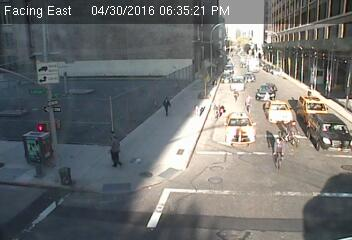neg: (43, 48, 74, 88), (22, 137, 51, 176), (6, 65, 33, 102), (284, 54, 308, 85), (196, 132, 216, 159), (160, 5, 176, 27), (225, 60, 239, 78)
pos: (100, 122, 126, 158)
